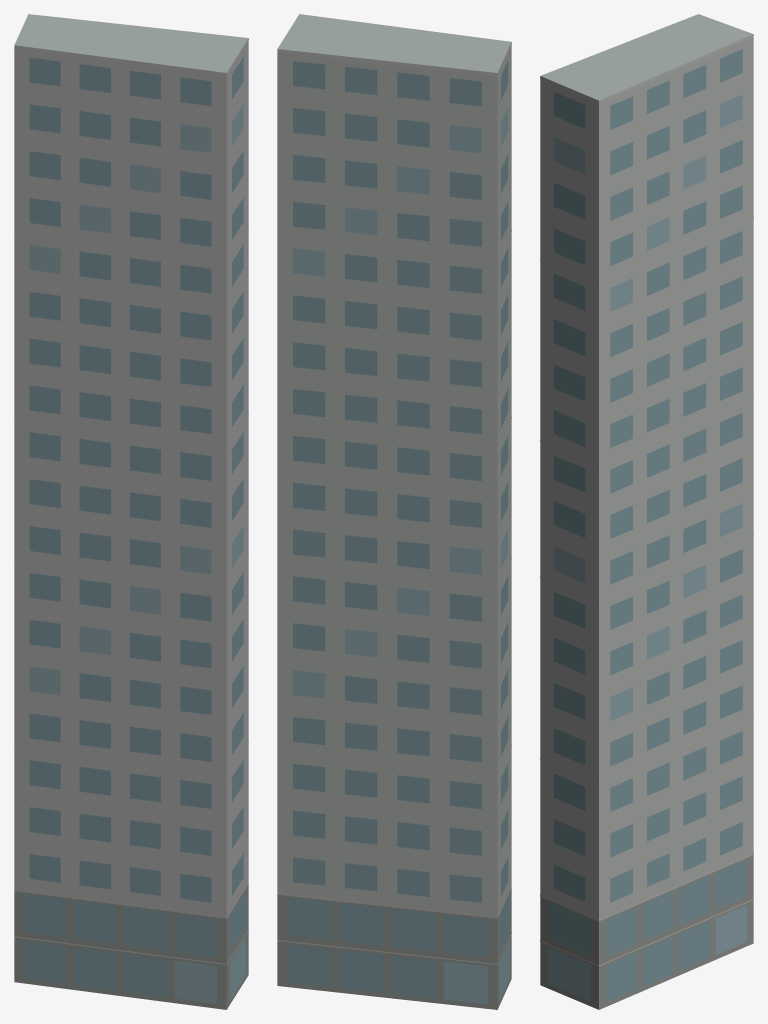
The model's file is survey-upis-33047259.glb.
3 renders of one model, left to right at view 1: azimuth 30°, elevation 25°; view 2: azimuth 210°, elevation 25°; view 3: azimuth 270°, elevation 25°, orthographic. The views are drawn at different scales.
Parts seen in each view (by area): view 1: survey-upis-33047259.tmp; view 2: survey-upis-33047259.tmp; view 3: survey-upis-33047259.tmp.
Boxes of the visible parts, box(x1,y1,x2,y2) form: survey-upis-33047259.tmp: box(14, 14, 248, 1009); survey-upis-33047259.tmp: box(277, 14, 511, 1009); survey-upis-33047259.tmp: box(540, 14, 753, 1009).
Bounding box in the file's own units: 12.49 × 61 × 13.
